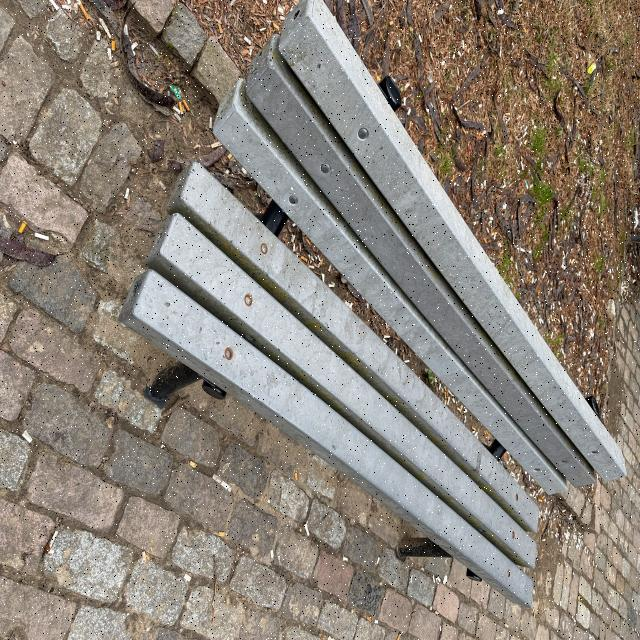Bench: (176, 277, 498, 640)
